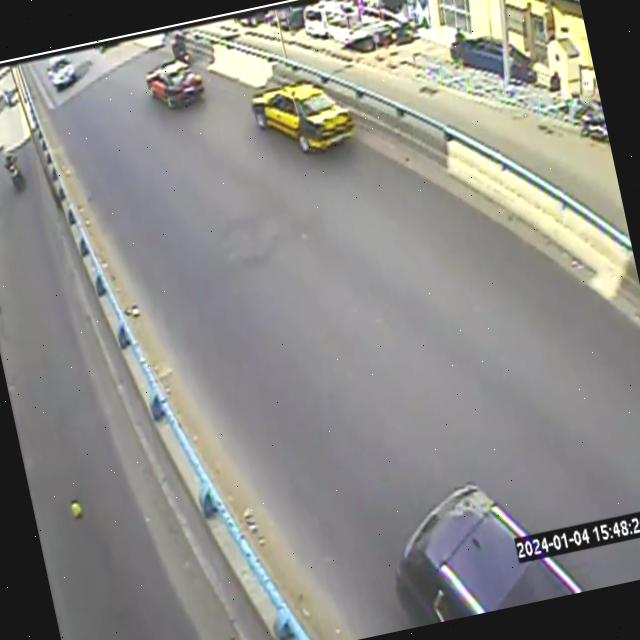car: (395, 482, 582, 625), (250, 82, 354, 152), (144, 57, 203, 108), (47, 55, 77, 90)
